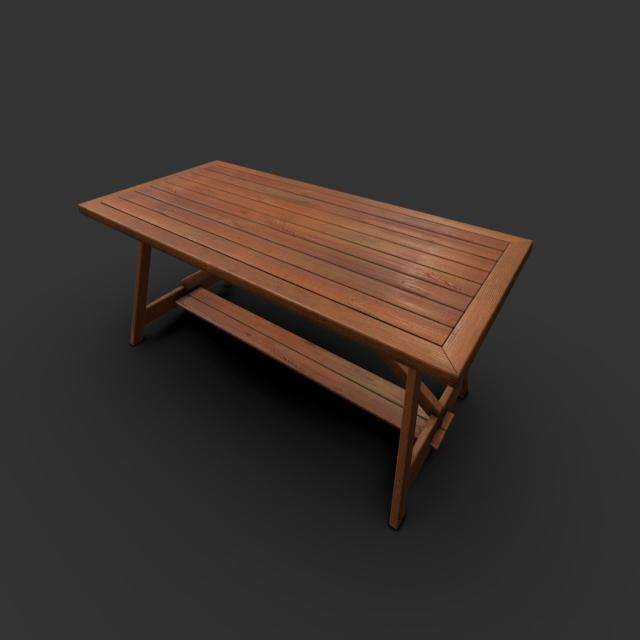table: (79, 157, 533, 525)
